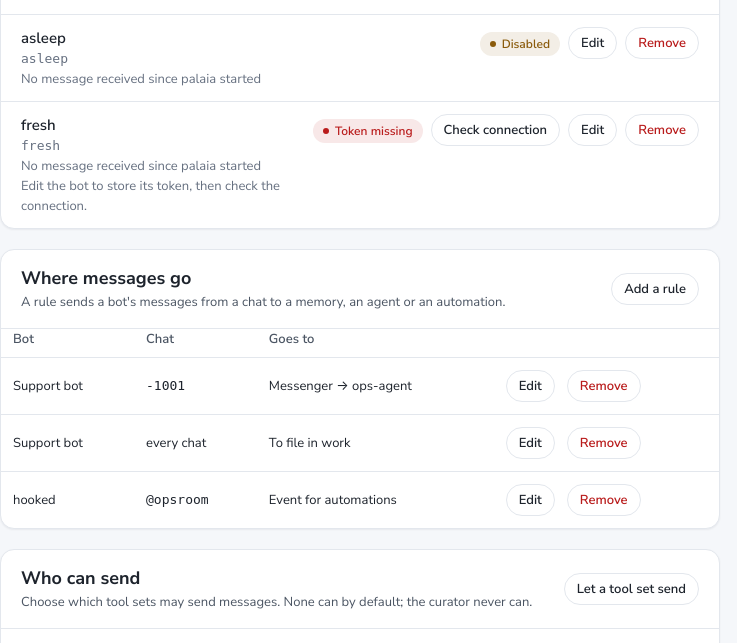
Test case: editing (issue 463) › shows a refused rule's reason from the hub
(page scrolled)
Click the button "Add a rule": (655, 289) [611,273,699,305]
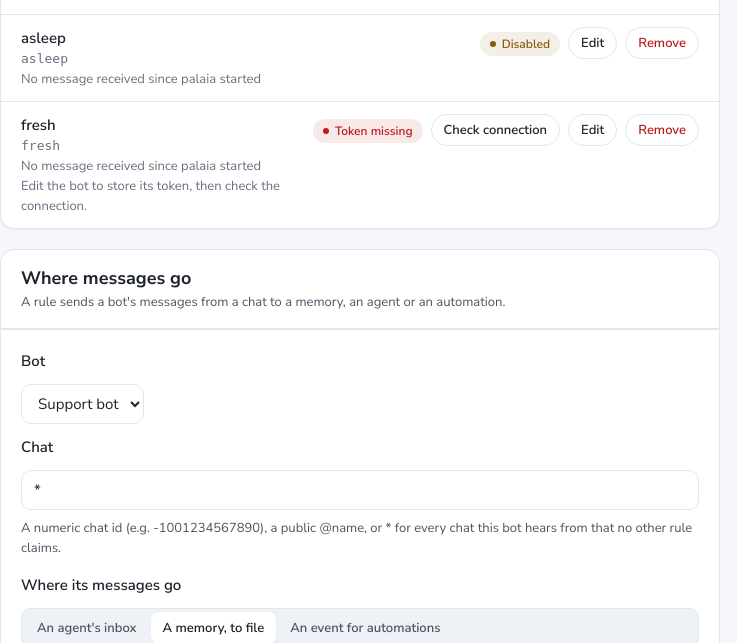
In the field labelled "Chat": (360, 490) [21,470,699,510], type "x"
(page scrolled)
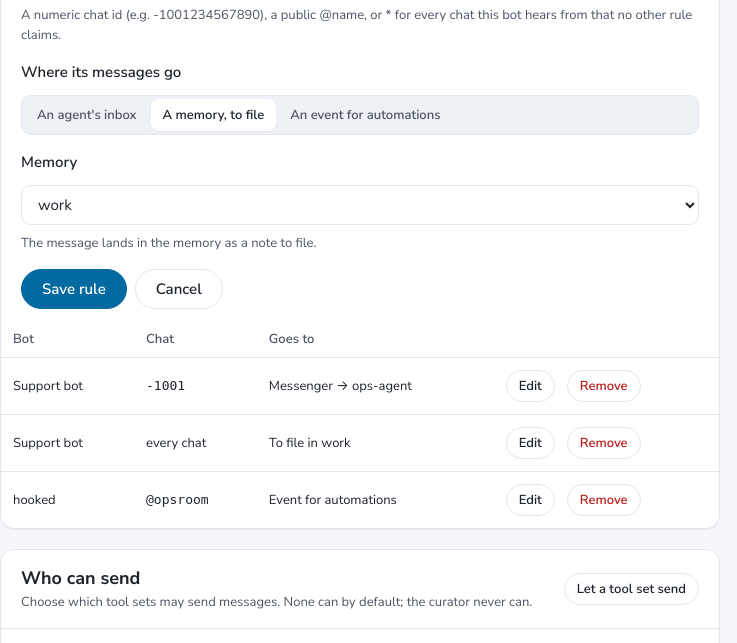
Click the button "Save rule": (74, 289) [21,269,127,309]
(page scrolled)
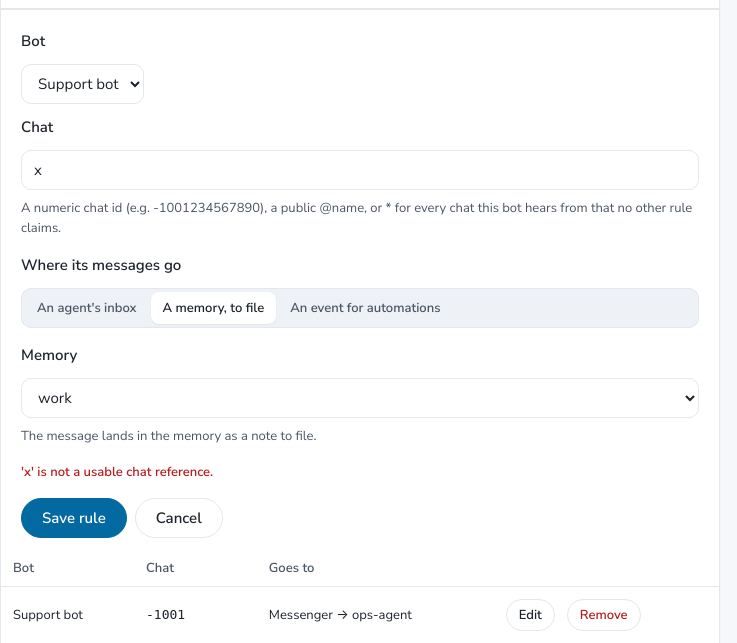
Now the text "'x' is not a usable chat reference." is shown, box [21,463,213,481]
